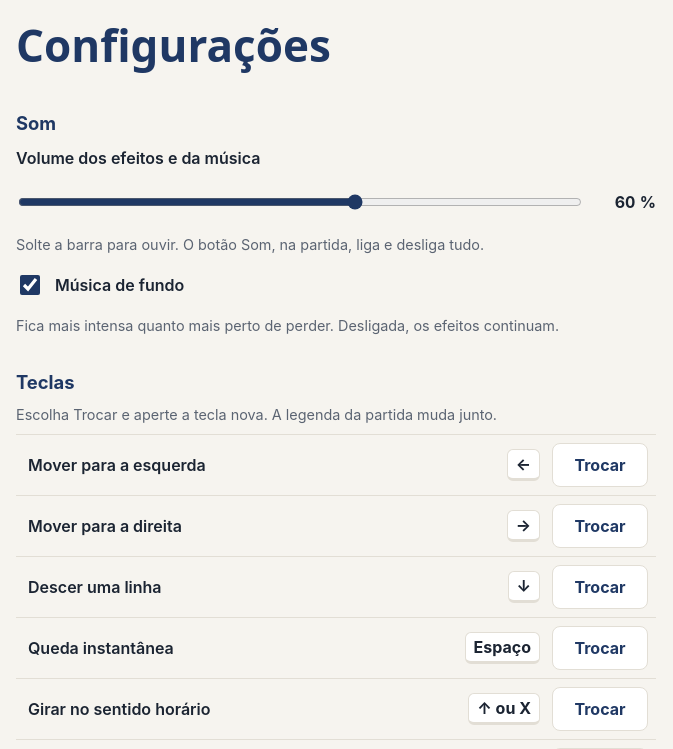
Scenario: Configuracoes › Salvar só fica ativo quando algo mudou
Set the slider labelled "Volume dos efeitos e da música" to "30". click: {"x": 190, "y": 202}
box: top-left (18, 180), bottom-right (582, 224)
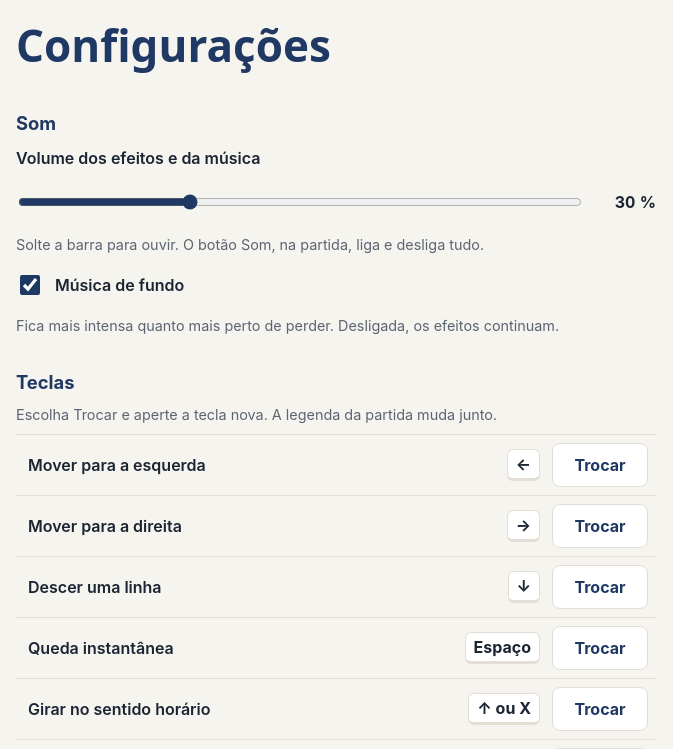
Result: the text "30 %" is shown at top-left (615, 192), bottom-right (656, 212)
